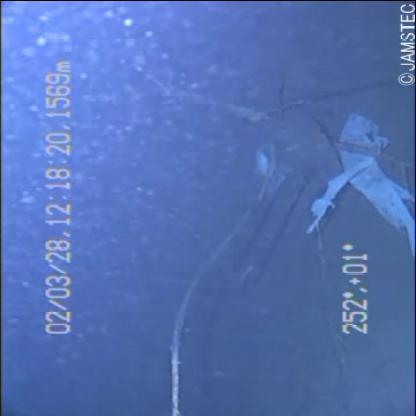Rác: (270, 108, 414, 264)
